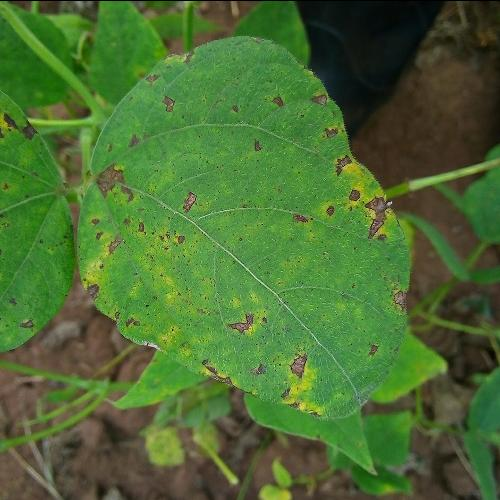hawar: (263, 79, 414, 248), (208, 296, 333, 430), (85, 146, 197, 270), (349, 266, 418, 368)
